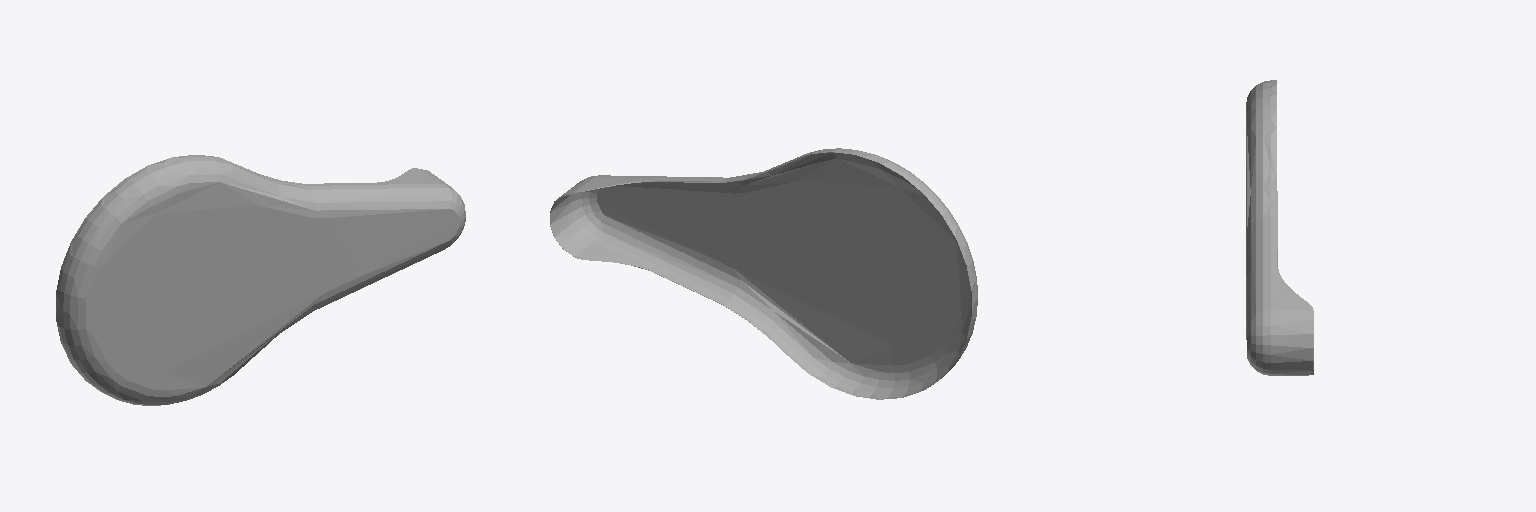
The model's file is toe-output-mirror.obj.
The picture shows the model from 3 angles: view 1: azimuth 30°, elevation 25°; view 2: azimuth 150°, elevation 25°; view 3: azimuth 270°, elevation 25°; orthographic projection.
Visible parts, largest first — view 1: __TMPOBJ_____TMPMESH__.044; view 2: __TMPOBJ_____TMPMESH__.044; view 3: __TMPOBJ_____TMPMESH__.044.
Part boxes in pixels (x1,y1,x2,y2): __TMPOBJ_____TMPMESH__.044: (56, 155, 465, 405); __TMPOBJ_____TMPMESH__.044: (550, 148, 977, 399); __TMPOBJ_____TMPMESH__.044: (1246, 80, 1313, 375).
Size of the model in its own units: 0.0895 by 0.051 by 0.013.